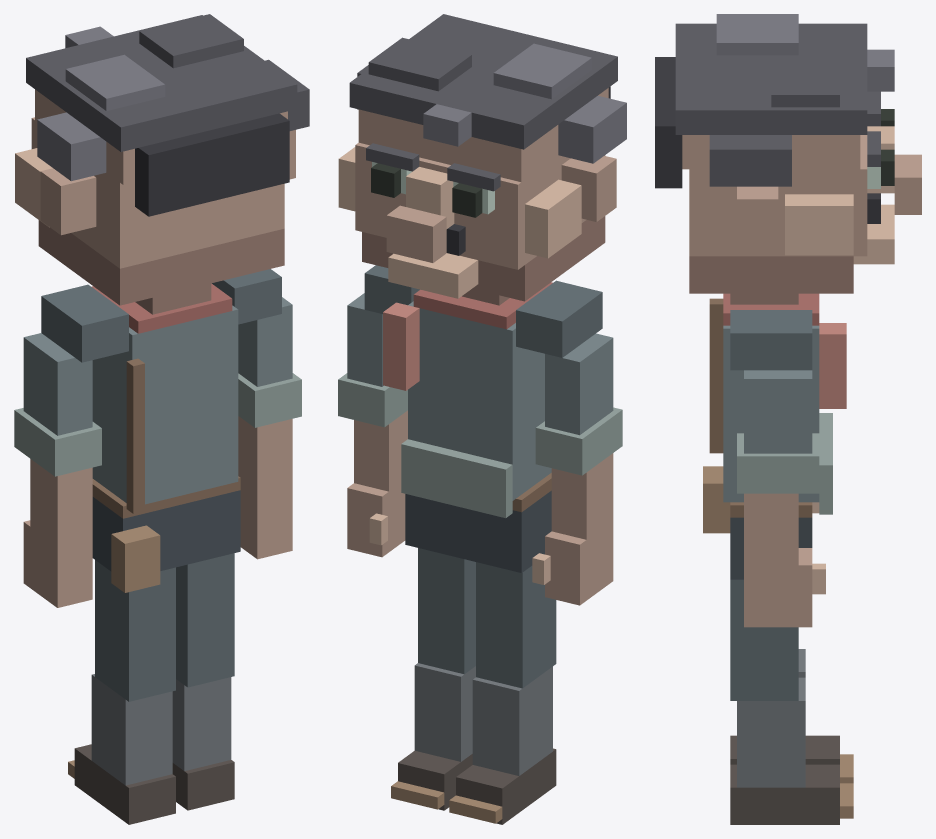
Rendered from voxel_player_scheme_e.glb.
The picture shows the model from 3 angles, left to right: view 1: azimuth 30°, elevation 25°; view 2: azimuth 150°, elevation 25°; view 3: azimuth 270°, elevation 25°; orthographic projection.
Parts seen in each view (by area): view 1: torso, hair_crown, hair_nape, face_core, thigh_r, jaw, thigh_l, pelvis, greave_r, arm_r, shoulder_r, greave_l (+23 smaller); view 2: torso, hair_crown, thigh_r, face_core, pelvis, greave_r, thigh_l, tunic_hem_f, cranium, arm_r, greave_l, shoulder_r (+33 smaller); view 3: hair_crown, face_core, jaw, greave_l, arm_l, thigh_l, boot_l, shoulder_l, hand_l, hair_side_l, cheek_l, fore_l (+23 smaller).
Boxes of the visible parts, x1,y1,x2,y2 form: torso: (92,305,238,504); hair_crown: (26,15,297,151); hair_nape: (135,113,289,216); face_core: (31,117,284,268); thigh_r: (95,560,175,701); jaw: (38,220,284,305); thigh_l: (176,553,234,687); pelvis: (92,490,240,571); greave_r: (91,674,172,785); arm_r: (23,333,92,435); shoulder_r: (41,284,128,362); greave_l: (172,677,231,770); torso: (408,301,551,500); hair_crown: (349,14,617,149); thigh_r: (476,562,556,688); face_core: (355,142,605,269); pelvis: (405,490,551,572); greave_r: (472,666,552,775); thigh_l: (418,548,475,674); tunic_hem_f: (401,439,512,518); cranium: (358,88,608,182); arm_r: (545,333,613,435); greave_l: (414,663,475,761); shoulder_r: (516,280,602,357); hair_crown: (675,23,867,134); face_core: (689,135,867,256); jaw: (689,256,853,293); greave_l: (737,677,805,787); arm_l: (744,370,812,453); thigh_l: (730,579,798,700); boot_l: (730,764,839,824); shoulder_l: (730,310,812,370); hand_l: (744,548,812,627); hair_side_l: (709,135,791,186); cheek_l: (785,194,853,255); fore_l: (744,493,798,565).
Size of the model in its own units: 0.6563 by 1.88 by 0.6094.
